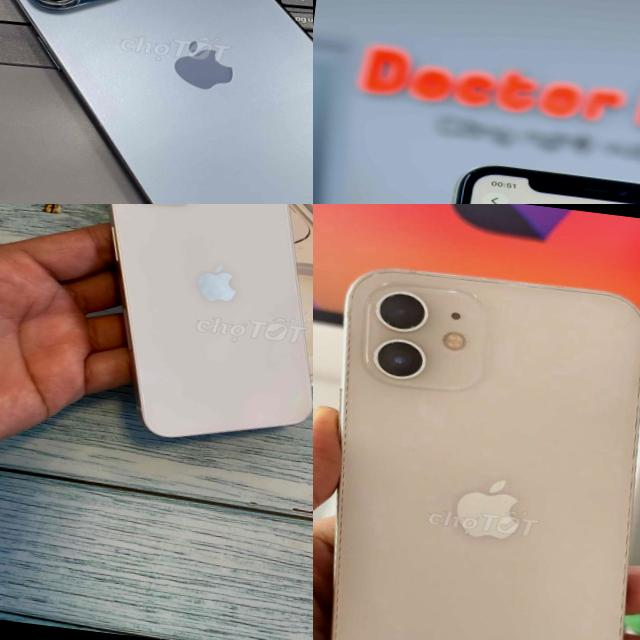gen_12_13: (313, 260, 640, 640), (0, 0, 313, 204), (66, 204, 313, 457)
